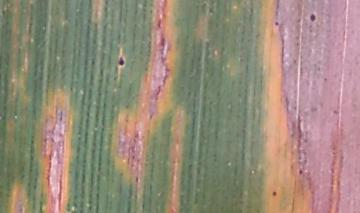tarspot: (116, 54, 126, 66), (309, 12, 317, 22), (273, 19, 280, 27), (297, 168, 304, 176), (271, 190, 278, 197), (134, 175, 140, 183)
